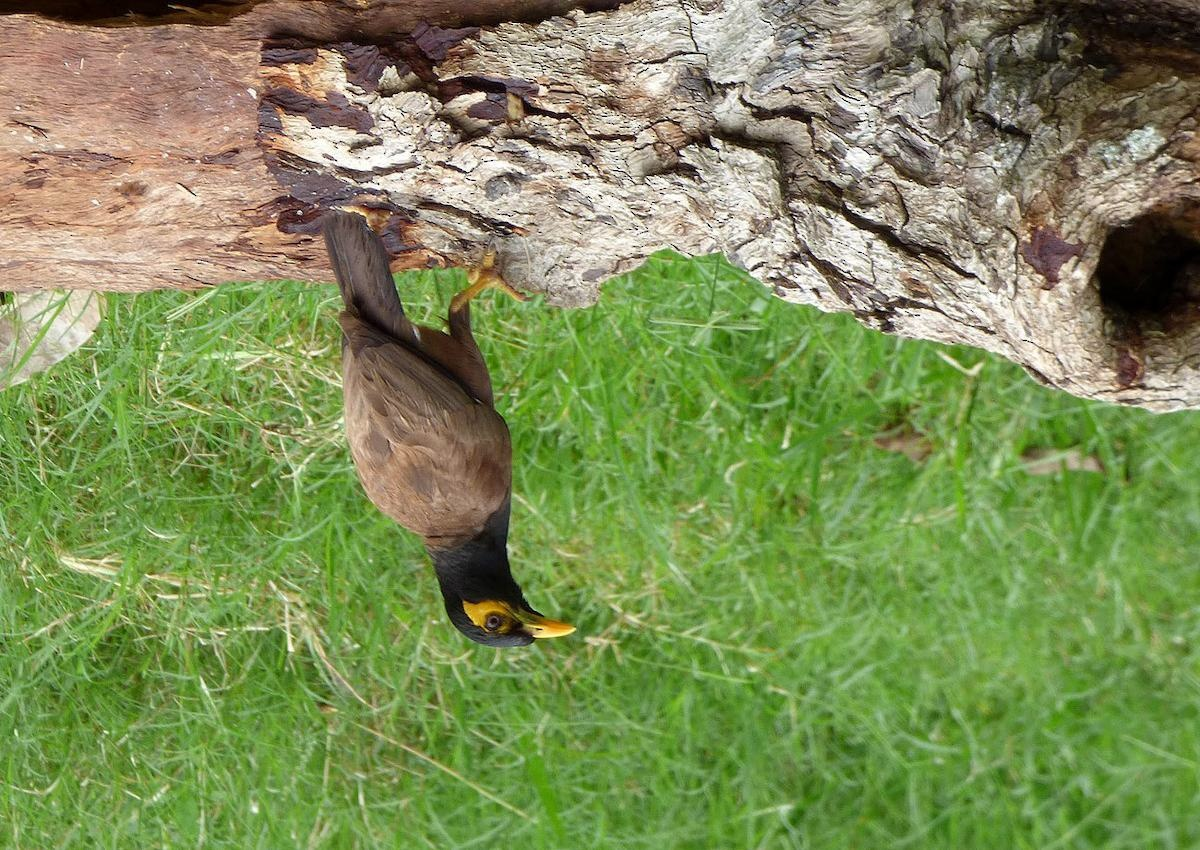myna: (318, 153, 587, 659)
